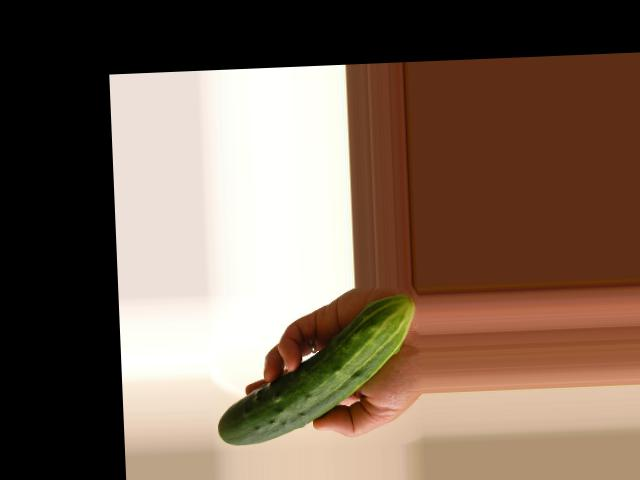cucumber: (212, 293, 419, 445)
